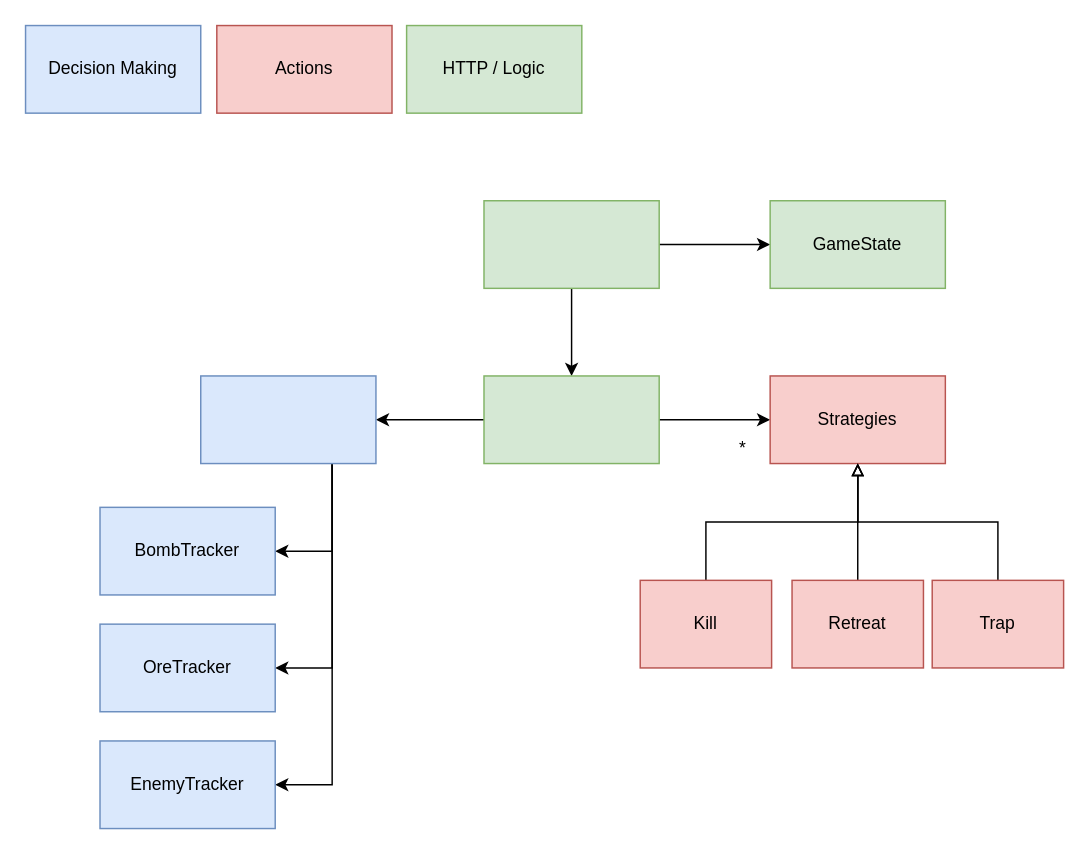
Some shapes in this 1089 by 854 pixel diagram are drawn without their labels. The shapes that lost their labels are listed below. From the top down, each one's box as (x1, y1, x2, y2) in pixels, then its label:
(483, 199, 659, 288): Client
(199, 374, 376, 464): Brain
(483, 374, 659, 464): Agent
